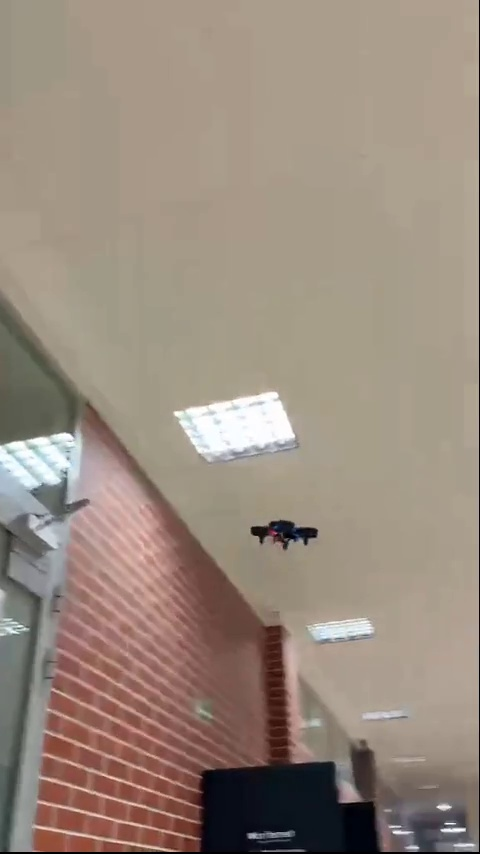drone: (249, 518, 319, 554)
